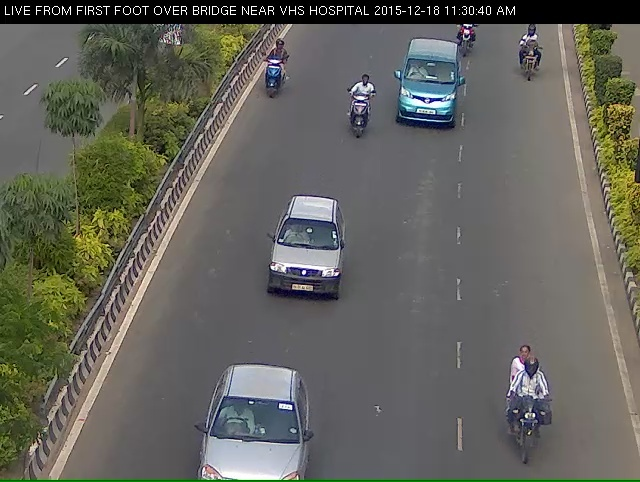Car: (258, 212, 347, 330), (191, 392, 316, 476), (388, 49, 465, 139)
Person: (504, 366, 560, 475), (516, 24, 555, 114), (347, 82, 382, 154), (256, 46, 286, 113)
